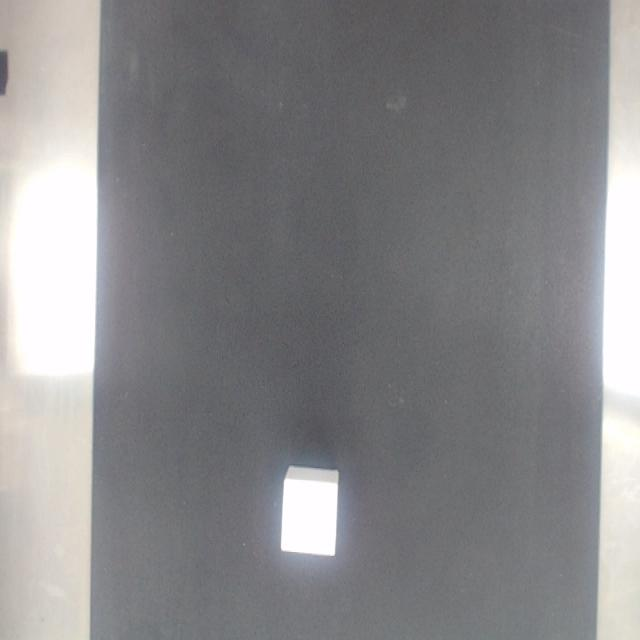Blanco: (280, 467, 338, 556)
